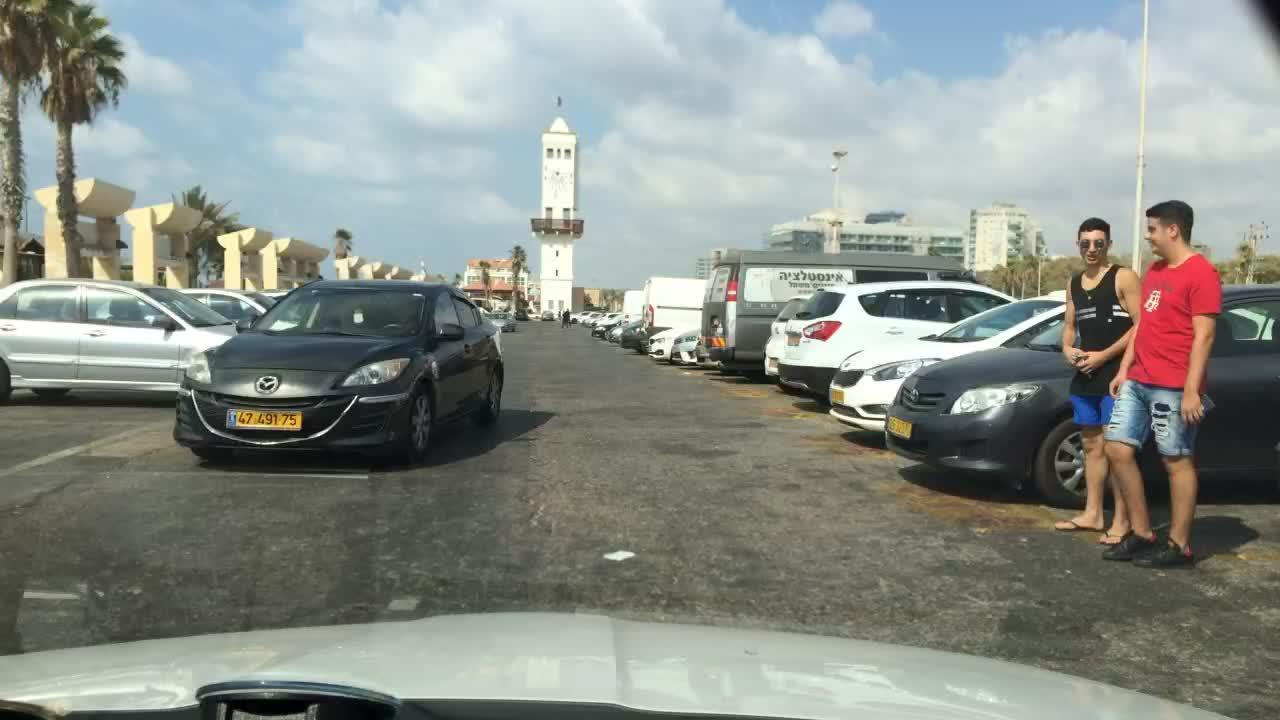Mazda: (252, 373, 282, 397)
